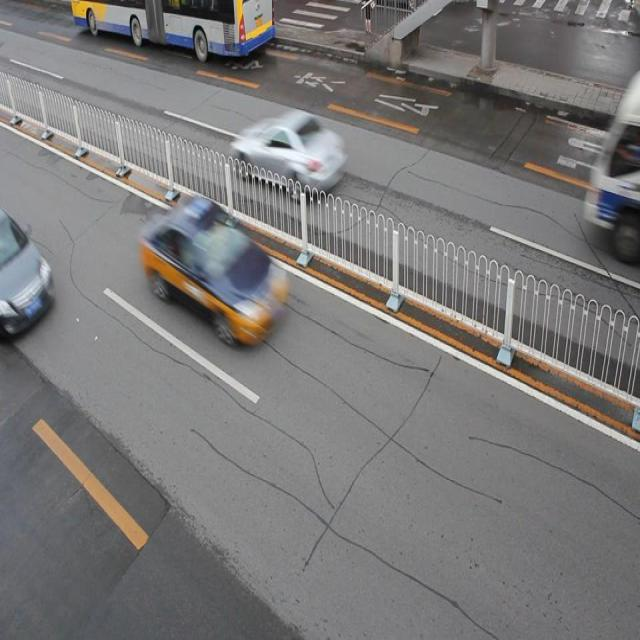car: (143, 197, 289, 341), (234, 109, 345, 198), (1, 208, 55, 336)
van: (73, 1, 274, 57)
